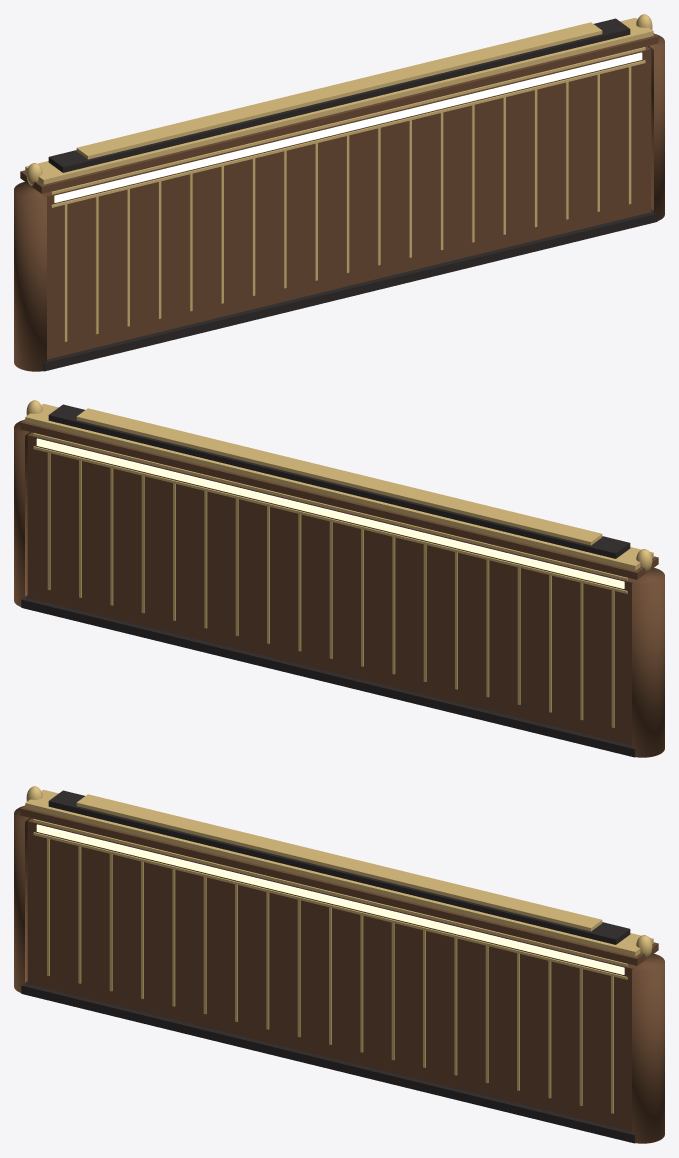
File: slot_spine.glb
3 views of the same model, one above another, from view 1: azimuth 30°, elevation 25°; view 2: azimuth 150°, elevation 25°; view 3: azimuth 330°, elevation 25° (orthographic).
Parts seen in each view (by area): view 1: spBody_wood, spCrown4_brass, spPlinth_dark, spCap_wood, spCrown1_wood, spCrown3_dark, spCrown2_brass, spGlow_glow, spCap_wood.001, spGlowFrame_brass, spGlowFrame_brass.001, spFlute_brass (+12 smaller); view 2: spBody_wood, spCrown4_brass, spPlinth_dark, spCap_wood, spCrown1_wood, spCrown3_dark, spCrown2_brass, spGlow_glow.001, spCap_wood.001, spGlowFrame_brass.002, spGlowFrame_brass.003, spFlute_brass.001 (+12 smaller); view 3: spBody_wood, spCrown4_brass, spPlinth_dark, spCap_wood.001, spCrown1_wood, spCrown3_dark, spCrown2_brass, spGlow_glow, spCap_wood, spGlowFrame_brass, spGlowFrame_brass.001, spFlute_brass.002 (+11 smaller).
Boxes of the visible parts, <box> form: spBody_wood: <box>42,46,651,359</box>; spCrown4_brass: <box>76,22,602,159</box>; spPlinth_dark: <box>43,209,657,371</box>; spCap_wood: <box>14,182,46,371</box>; spCrown1_wood: <box>20,33,658,193</box>; spCrown3_dark: <box>48,18,630,172</box>; spCrown2_brass: <box>25,17,653,184</box>; spGlow_glow: <box>54,52,642,202</box>; spCap_wood.001: <box>647,34,664,220</box>; spGlowFrame_brass: <box>51,47,645,194</box>; spGlowFrame_brass.001: <box>51,60,645,207</box>; spFlute_brass: <box>64,204,67,341</box>; spBody_wood: <box>27,432,636,745</box>; spCrown4_brass: <box>76,408,602,545</box>; spPlinth_dark: <box>21,595,635,757</box>; spCap_wood: <box>632,568,664,757</box>; spCrown1_wood: <box>20,419,658,579</box>; spCrown3_dark: <box>48,404,630,558</box>; spCrown2_brass: <box>25,403,653,570</box>; spGlow_glow.001: <box>36,438,624,588</box>; spCap_wood.001: <box>14,420,31,606</box>; spGlowFrame_brass.002: <box>33,433,627,580</box>; spGlowFrame_brass.003: <box>33,446,627,593</box>; spFlute_brass.001: <box>611,590,614,727</box>; spBody_wood: <box>27,818,636,1131</box>; spCrown4_brass: <box>76,794,602,931</box>; spPlinth_dark: <box>21,981,635,1143</box>; spCap_wood.001: <box>632,954,664,1143</box>; spCrown1_wood: <box>20,805,658,965</box>; spCrown3_dark: <box>48,790,630,944</box>; spCrown2_brass: <box>25,789,653,956</box>; spGlow_glow: <box>36,824,624,974</box>; spCap_wood: <box>14,806,31,992</box>; spGlowFrame_brass: <box>33,819,627,966</box>; spGlowFrame_brass.001: <box>33,832,627,979</box>; spFlute_brass.002: <box>78,846,81,983</box>.
Bounding box in the file's own units: 9.78 × 2.89 × 0.6.
